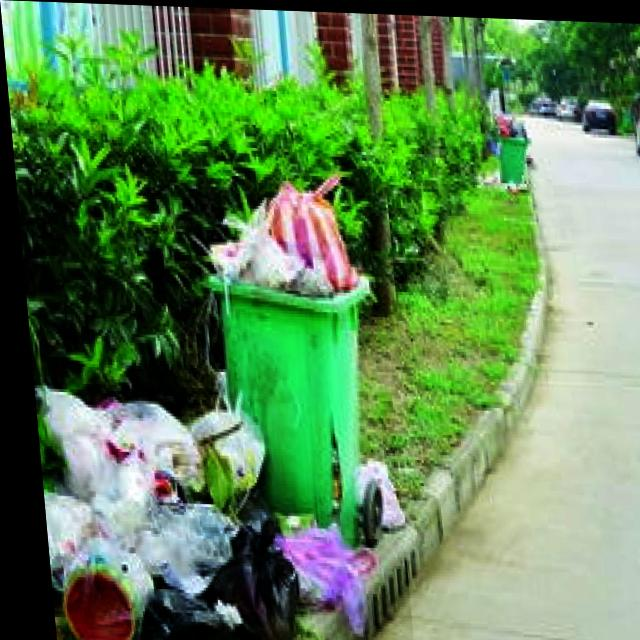garbage: (27, 382, 403, 640)
overflow: (187, 161, 382, 537), (490, 107, 527, 177)
